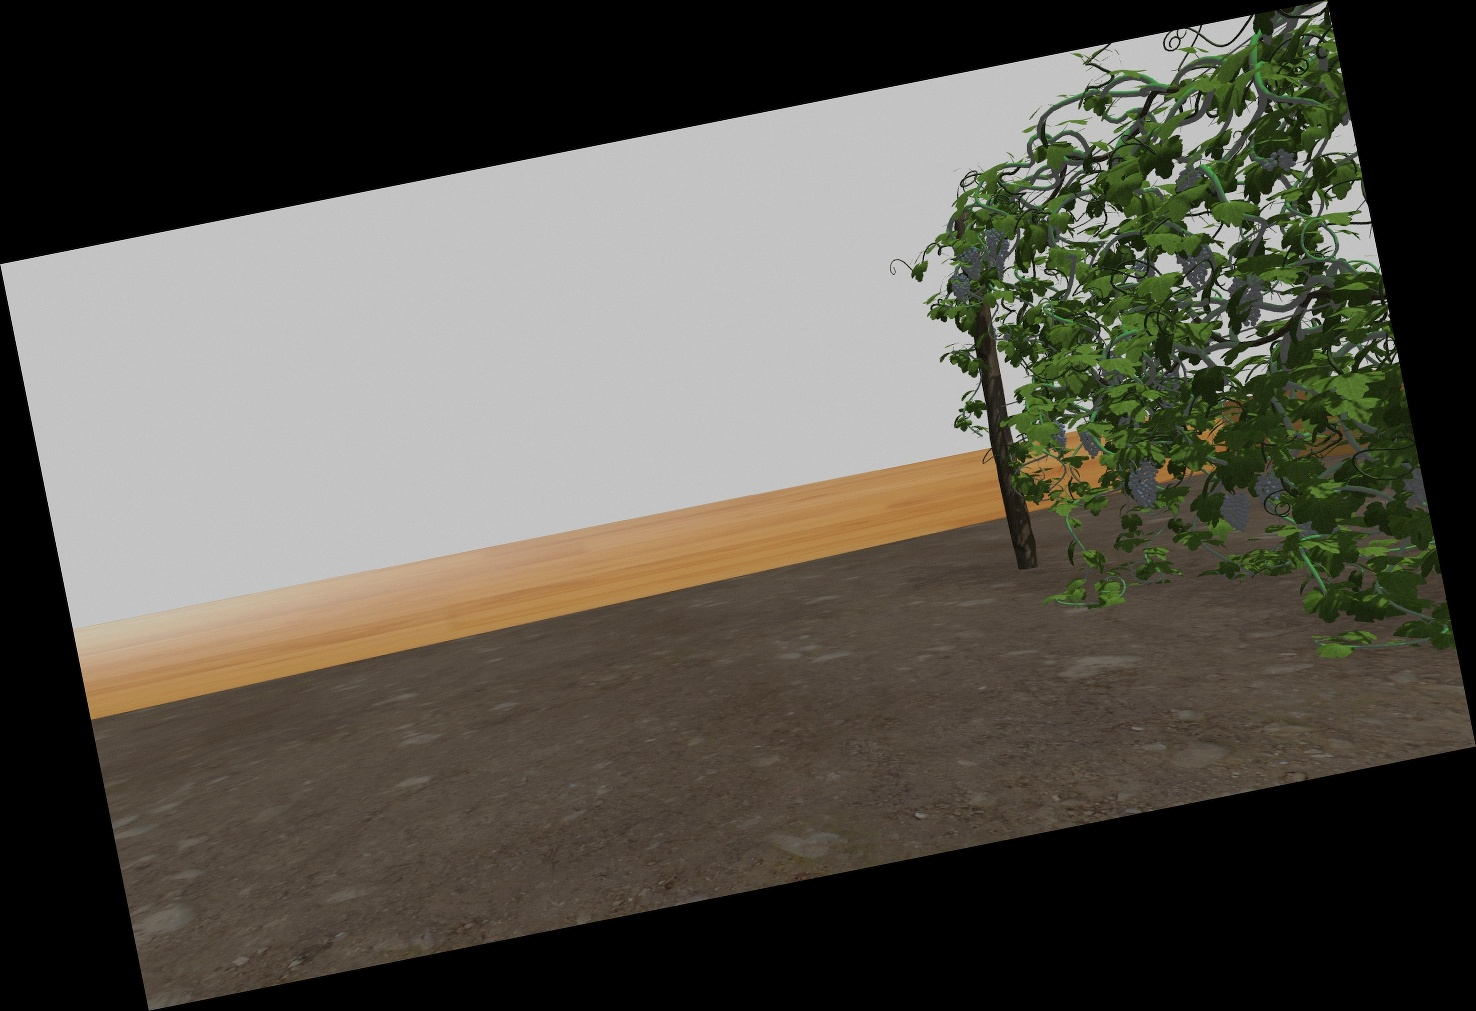grape: (1231, 276, 1264, 327), (1179, 243, 1214, 287), (1128, 462, 1160, 511), (1220, 493, 1253, 533), (1255, 475, 1284, 509), (1262, 150, 1297, 173), (987, 228, 1011, 260), (1080, 422, 1101, 458), (961, 247, 983, 281), (950, 275, 971, 298), (1052, 423, 1068, 448)
